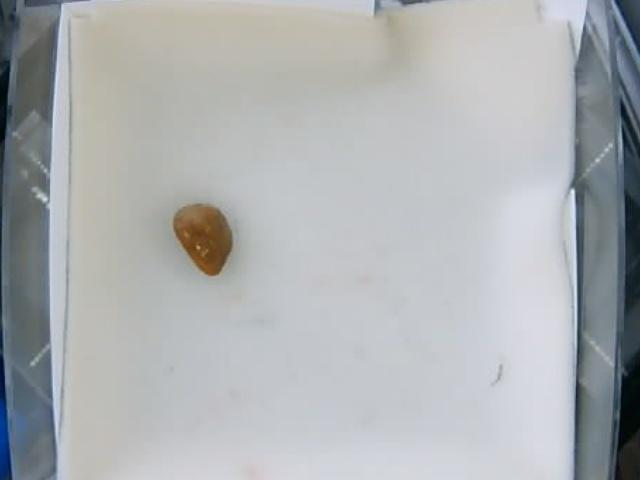Pebble: (163, 203, 230, 277)
